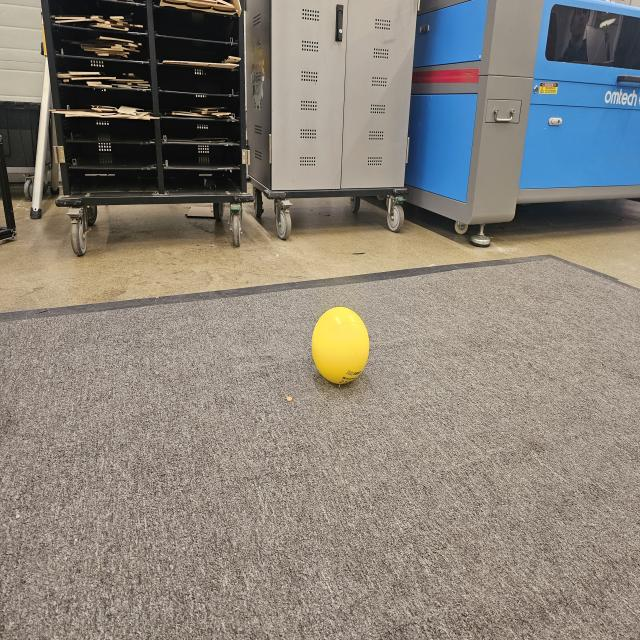Fuel: (312, 306, 369, 385)
